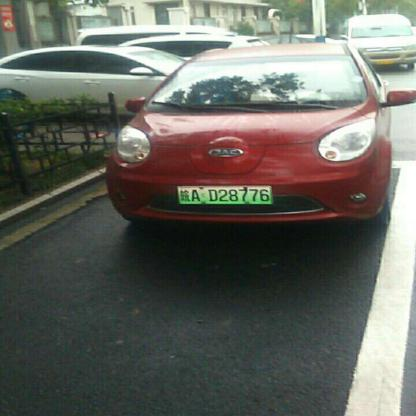lp: (178, 186, 272, 203)
